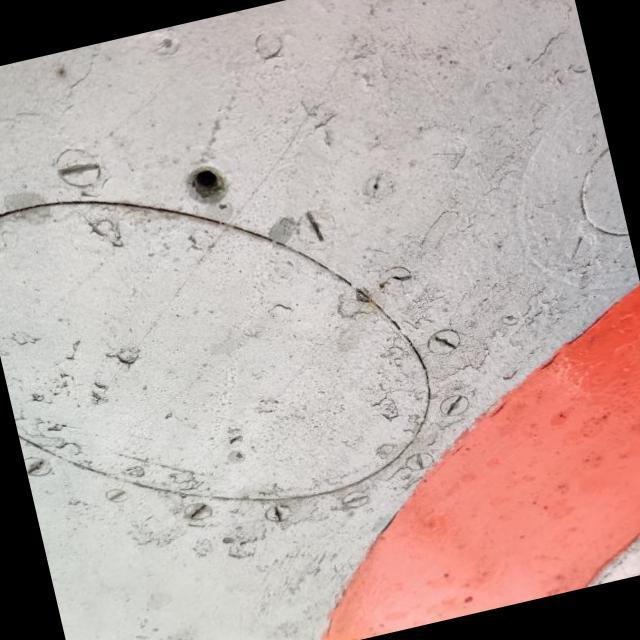Fastener Damage: (152, 132, 266, 242)
